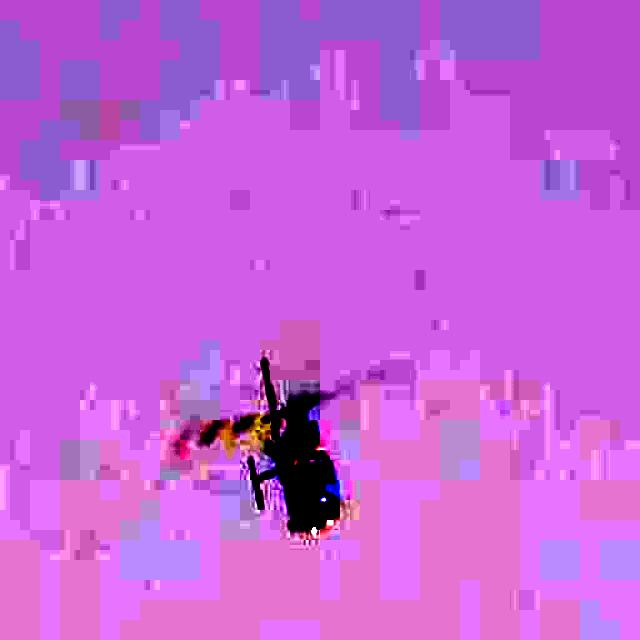drone: (152, 289, 420, 591)
